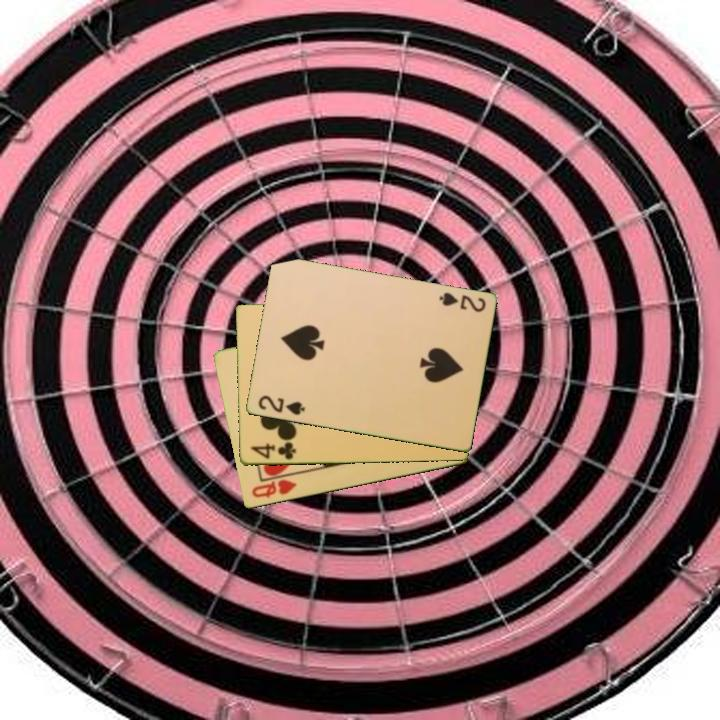2s: (254, 392, 308, 418), (435, 289, 488, 315)
4c: (247, 439, 299, 463)
Qh: (248, 476, 299, 501)
